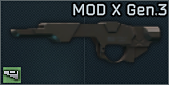Remington M700 AB Arms MOD*X GEN 3 stock: (0, 0, 169, 85)
